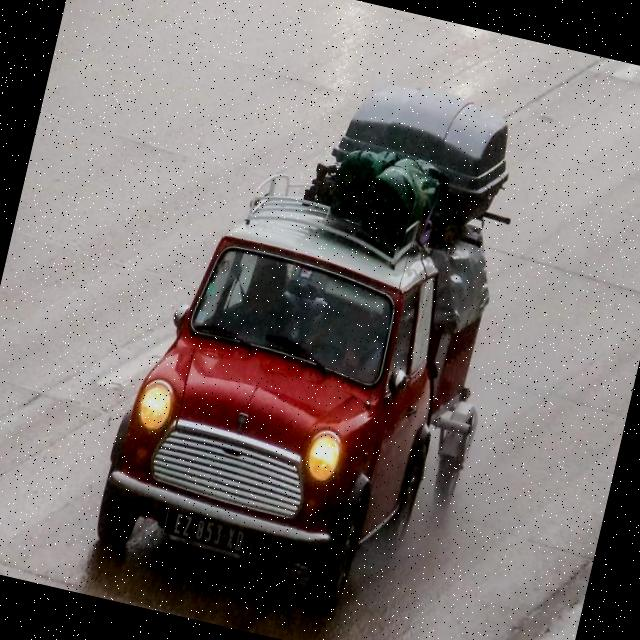Autre: (160, 502, 254, 560)
